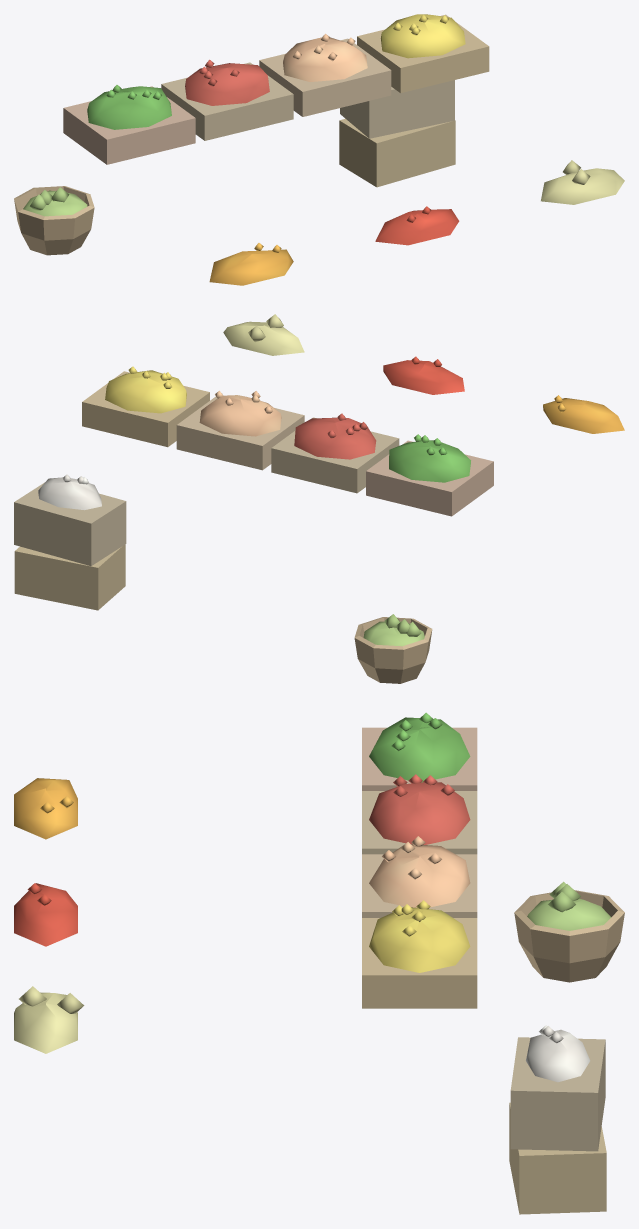
Rendered from SM_BM_BP_StallGoods_A.glb.
The picture shows the model from 3 angles, top to bottom: view 1: azimuth 30°, elevation 25°; view 2: azimuth 150°, elevation 25°; view 3: azimuth 270°, elevation 25°; orthographic projection. The views are drawn at different scales.
Visible parts, largest first — view 1: SM_BM_BP_StallGoods_A; view 2: SM_BM_BP_StallGoods_A; view 3: SM_BM_BP_StallGoods_A.
Boxes of the visible parts, bbox=[...] form: SM_BM_BP_StallGoods_A: bbox=[14, 14, 624, 285]; SM_BM_BP_StallGoods_A: bbox=[14, 314, 624, 683]; SM_BM_BP_StallGoods_A: bbox=[14, 712, 624, 1214].
Size of the model in its own units: 2.82 by 1.24 by 2.65.
